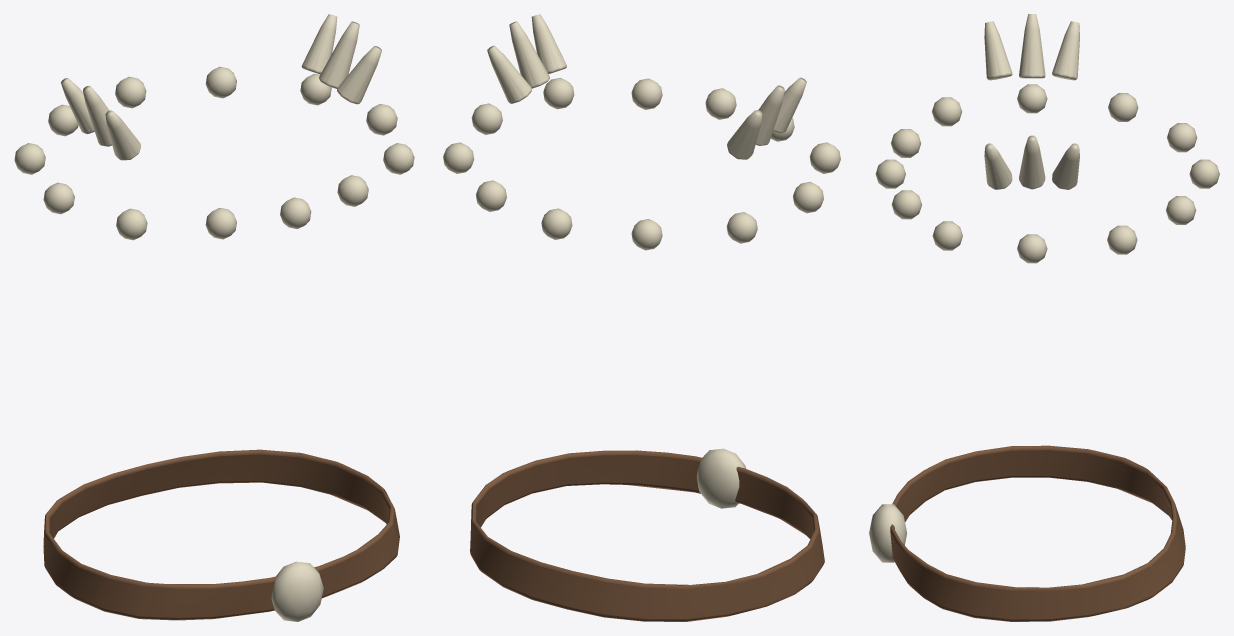
The model's file is armor.class.necromancer.default.gltf.
The picture shows the model from 3 angles, left to right: view 1: azimuth 30°, elevation 25°; view 2: azimuth 150°, elevation 25°; view 3: azimuth 270°, elevation 25°; orthographic projection. The views are drawn at different scales.
Visible parts, largest first — view 1: class.necromancer.belt, class.necromancer.bone-collar, class.necromancer.bone-spikes_l, class.necromancer.bone-spikes_r, class.necromancer.skull-clasp; view 2: class.necromancer.belt, class.necromancer.bone-collar, class.necromancer.bone-spikes_l, class.necromancer.bone-spikes_r, class.necromancer.skull-clasp; view 3: class.necromancer.belt, class.necromancer.bone-collar, class.necromancer.bone-spikes_r, class.necromancer.bone-spikes_l, class.necromancer.skull-clasp.
Boxes of the visible parts, box(x1,y1,x2,y2) form: class.necromancer.belt: box(43, 449, 399, 620); class.necromancer.bone-collar: box(14, 66, 414, 240); class.necromancer.bone-spikes_l: box(301, 14, 381, 104); class.necromancer.bone-spikes_r: box(60, 78, 140, 160); class.necromancer.skull-clasp: box(271, 561, 323, 621); class.necromancer.belt: box(470, 450, 824, 621); class.necromancer.bone-collar: box(443, 78, 840, 250); class.necromancer.bone-spikes_l: box(487, 14, 566, 103); class.necromancer.bone-spikes_r: box(727, 77, 806, 159); class.necromancer.skull-clasp: box(696, 448, 746, 508); class.necromancer.belt: box(890, 445, 1185, 621); class.necromancer.bone-collar: box(875, 84, 1219, 263); class.necromancer.bone-spikes_r: box(984, 14, 1079, 80); class.necromancer.bone-spikes_l: box(984, 135, 1079, 189); class.necromancer.skull-clasp: box(869, 504, 907, 562).
Bounding box in the file's own units: 0.4773 × 0.6685 × 0.4366.
